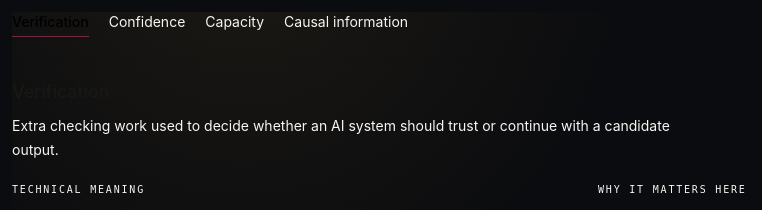
Test: DefinitionExplorer › reveals one relevant definition at a time without hiding the concept labels
Expected: the text "Extra checking work used to decide whether an AI system should trust or continue with a candidate output." is shown, [12, 117, 670, 158]
Click the button "Capacity".
click(235, 24)  # box [205, 12, 264, 37]
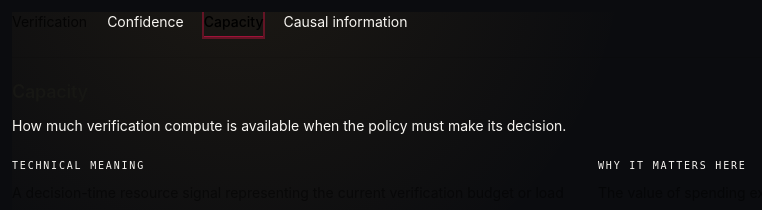
Result: the text "How much verification compute is available when the policy must make its decision." is shown at [12, 117, 566, 134]
